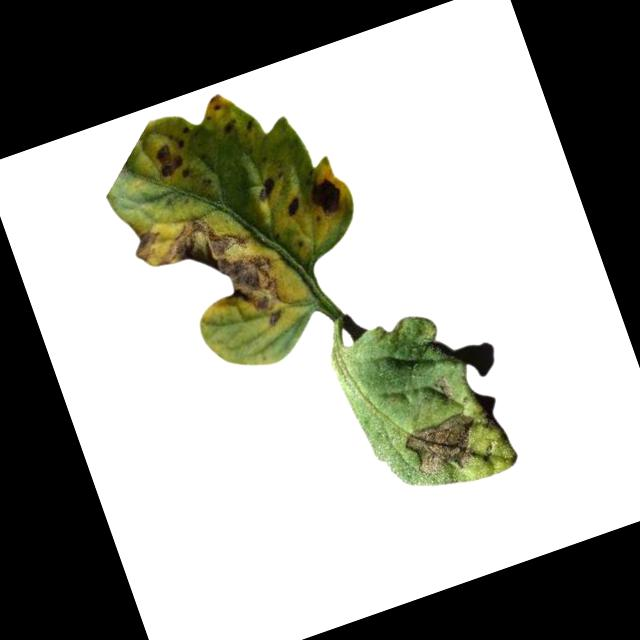Early_blight: (129, 189, 297, 364), (404, 411, 485, 482), (302, 168, 348, 222), (146, 140, 183, 182), (250, 173, 279, 204), (280, 190, 307, 220), (435, 372, 459, 402)
